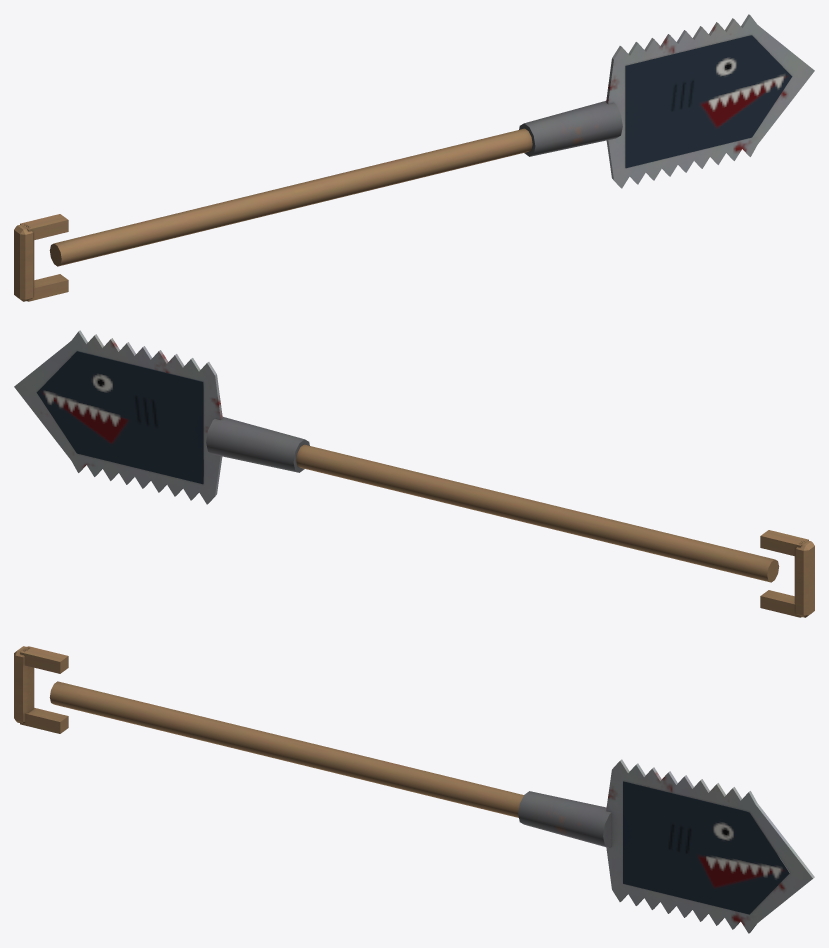
Rendered from AC_PalaTiburon.fbx.
The picture shows the model from 3 angles, top to bottom: view 1: azimuth 30°, elevation 25°; view 2: azimuth 150°, elevation 25°; view 3: azimuth 330°, elevation 25°; orthographic projection.
Visible parts, largest first — view 1: AC_PalaTiburon; view 2: AC_PalaTiburon; view 3: AC_PalaTiburon.
Part boxes in pixels (bbox=[...]): AC_PalaTiburon: bbox=[14, 14, 814, 301]; AC_PalaTiburon: bbox=[14, 330, 814, 617]; AC_PalaTiburon: bbox=[14, 646, 814, 933].
Size of the model in its own units: 1.39 by 0.236 by 0.06.
Materials: 1 (1 with a texture image).
